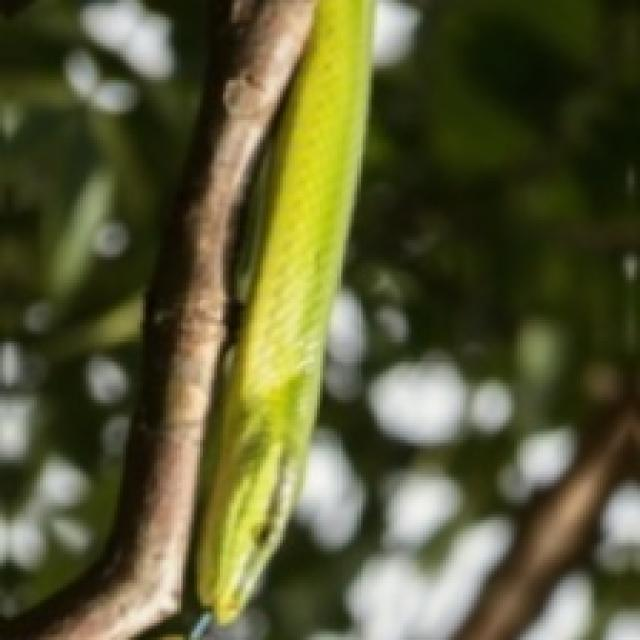red-tailed green ratsnake: (194, 0, 369, 620)
